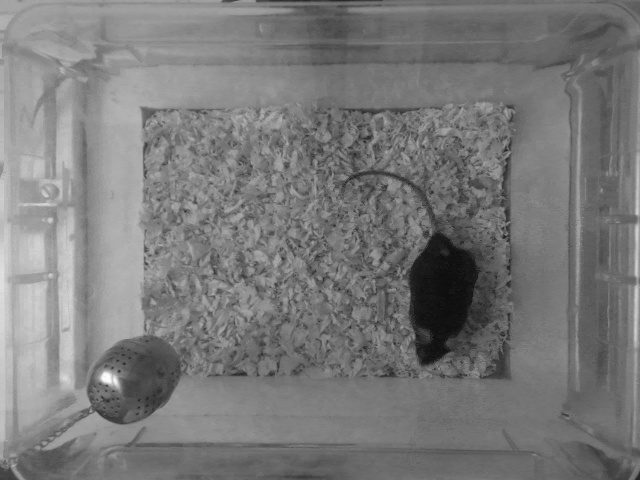mice: (340, 166, 477, 368)
